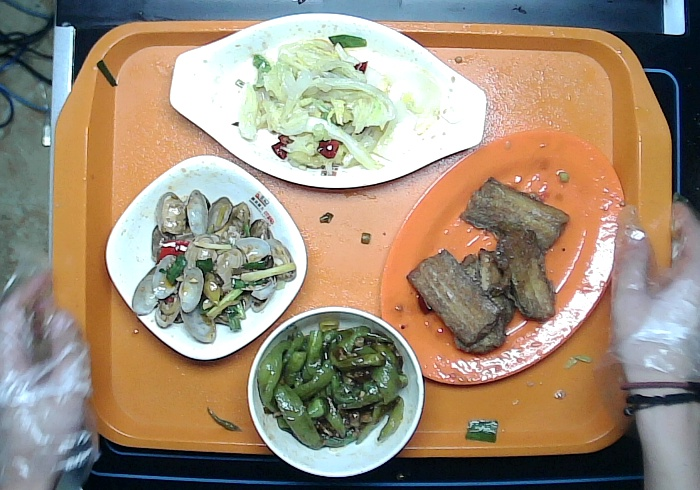NLDX-Bai_Se_Xiao_Fang_Die: (106, 154, 307, 360)
NLDX-Fan_Wan: (247, 305, 425, 477)
NLDX-Ju_Se_Pan: (379, 129, 626, 384)
NLDX-Yu_Pan: (169, 12, 486, 188)
